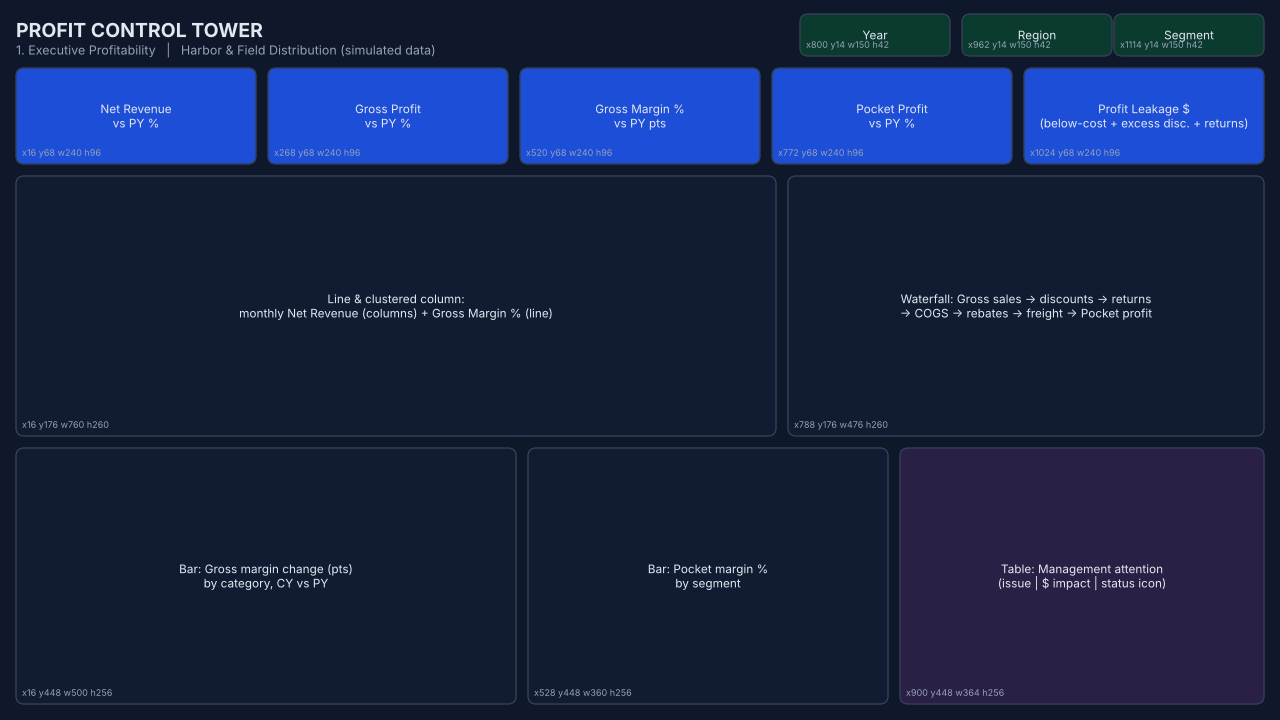

What the dashboard file says about the page in this screenshot:
{"tool":"powerbi","page":{"name":"Overview","canvas":[1280,720],"ordinal":0},"visuals":[{"type":"shape","box":[12.2,4.3,1252.6,94.7],"z":0,"group":"g1"},{"type":"shape","title":"Pocket Margin by Segment","box":[10,103.3,1252.6,120.5],"z":0},{"type":"cardVisual","fields":{"Data":["_Measures.Net Revenue","_Measures.Gross Profit","_Measures.Gross Margin %","_Measures.Pocket Profit","_Measures.Sales Below Price Floor %"]},"box":[16,120,1248,98.8],"z":1000},{"type":"textbox","box":[24.3,21.5,520.8,30.1],"z":2000,"group":"g1"},{"type":"lineChart","title":"Revenue vs Gross Profit Trend","fields":{"Category":["dim_date.month_name"],"Y":["_Measures.Net Revenue"],"Y2":["_Measures.Gross Profit"]},"box":[11.5,228.1,820.7,264],"z":2000},{"type":"cardVisual","fields":{"Data":["_Measures.Report Subtitle"]},"box":[61.6,59.1,520,24],"z":3000,"group":"g1"},{"type":"shape","box":[848,229.6,416.1,264],"z":3000},{"type":"slicer","fields":{"Values":["dim_date.date.Variation.Date Hierarchy.Year"]},"box":[882.4,63.4,110.5,31.6],"z":4000,"group":"g1"},{"type":"textbox","box":[887.2,237.6,200,26],"z":4000},{"type":"pageNavigator","box":[584.7,18,667.2,37.3],"z":5000,"group":"g1"},{"type":"cardVisual","fields":{"Data":["_Measures.Profit Leakage"]},"box":[885.4,263.2,343.4,71.1],"z":5000},{"type":"slicer","fields":{"Values":["dim_customer.region"]},"box":[992.9,63.4,119.1,31.6],"z":6000,"group":"g1"},{"type":"tableEx","fields":{"Values":["Leak Items.Item","_Measures.Leak Value"]},"box":[879,317.3,325.9,144.4],"z":6000},{"type":"slicer","fields":{"Values":["dim_customer.segment"]},"box":[1112,63.4,140,32],"z":7000,"group":"g1"},{"type":"cardVisual","fields":{"Data":["_Measures.Leakage % of Pocket Profit"]},"box":[885.4,448.7,391.9,39.9],"z":7000},{"type":"textbox","box":[589.7,73.4,292.6,22.2],"z":8000,"group":"g1"},{"type":"tableEx","fields":{"Values":["dim_product.category","_Measures.SVG Category Bar","_Measures.Category Rank"]},"box":[10,498,754,218],"z":8000},{"type":"tableEx","title":"Management Attention","fields":{"Values":["Attention Items.Item","_Measures.Attention Display","_Measures.SVG Attention Pill"]},"box":[769.1,497.9,499.3,215.2],"z":9000},{"type":"group","id":"g1","title":"Group 1","box":[12.2,4.3,1252.6,94.7],"z":10000}]}

Visuals, with their boxes in screenshot pixels (x1, y1, x2, y2), scaled from the page's 1280x720 canvas onto the 1280x720 screenshot:
shape: 12:4:1265:99
"Pocket Margin by Segment" shape: 10:103:1263:224
cardVisual - _Measures.Net Revenue x _Measures.Gross Profit: 16:120:1264:219
textbox: 24:22:545:52
"Revenue vs Gross Profit Trend" lineChart: 12:228:832:492
cardVisual - _Measures.Report Subtitle: 62:59:582:83
shape: 848:230:1264:494
slicer - dim_date.date.Variation.Date Hierarchy.Year: 882:63:993:95
textbox: 887:238:1087:264
pageNavigator: 585:18:1252:55
cardVisual - _Measures.Profit Leakage: 885:263:1229:334
slicer - dim_customer.region: 993:63:1112:95
tableEx - Leak Items.Item x _Measures.Leak Value: 879:317:1205:462
slicer - dim_customer.segment: 1112:63:1252:95
cardVisual - _Measures.Leakage % of Pocket Profit: 885:449:1277:489
textbox: 590:73:882:96
tableEx - dim_product.category x _Measures.SVG Category Bar: 10:498:764:716
"Management Attention" tableEx: 769:498:1268:713
"Group 1" group: 12:4:1265:99
